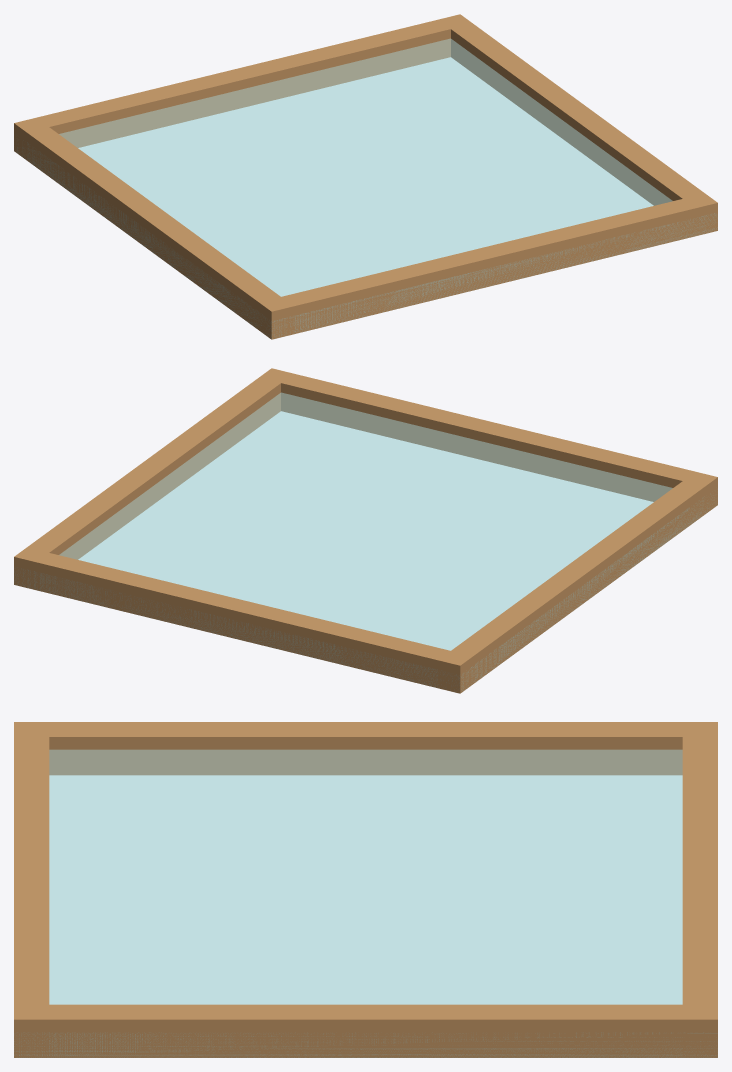
Rendered from floorGlass.glb.
The picture shows the model from 3 angles, top to bottom: view 1: azimuth 30°, elevation 25°; view 2: azimuth 150°, elevation 25°; view 3: azimuth 270°, elevation 25°; orthographic projection. The views are drawn at different scales.
Size of the model in its own units: 2 by 0.12 by 2.
